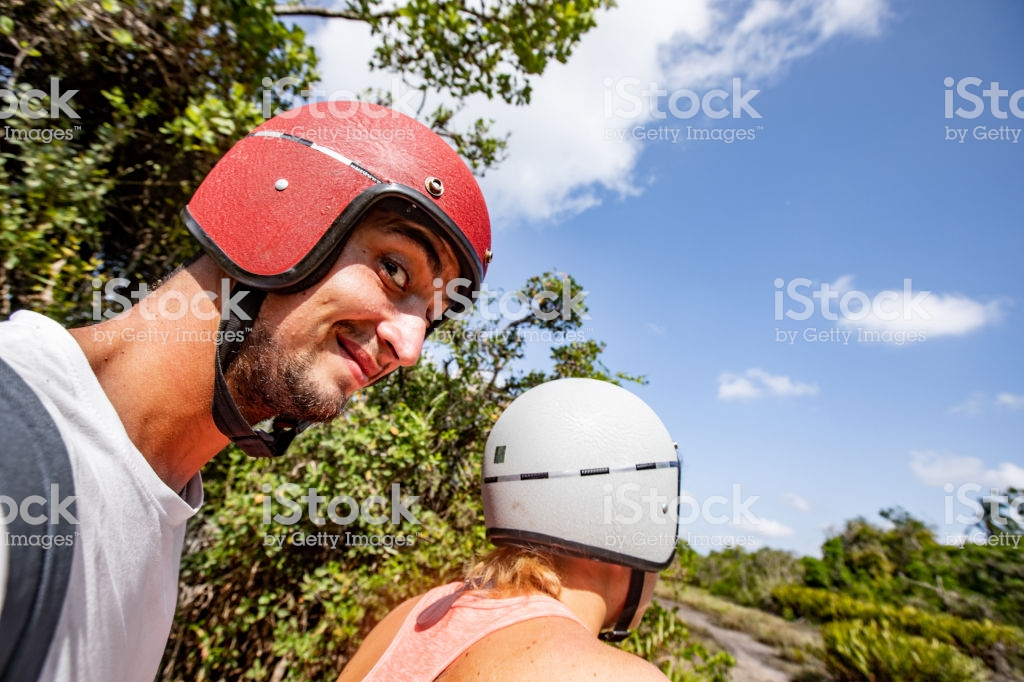helmet: (196, 96, 506, 300), (484, 389, 695, 553)
